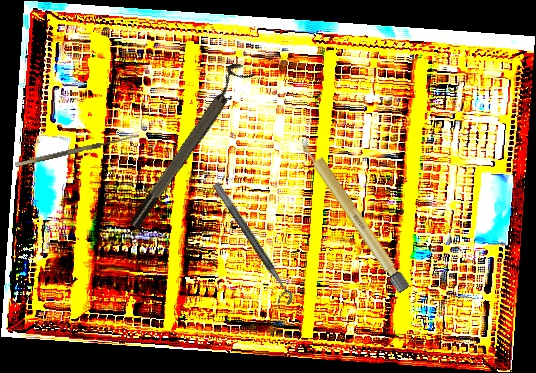Fixation Ring: (119, 58, 255, 232), (202, 181, 297, 311)
Hook Surgical: (13, 127, 140, 168)
Scalpel Handle: (295, 133, 412, 295)
